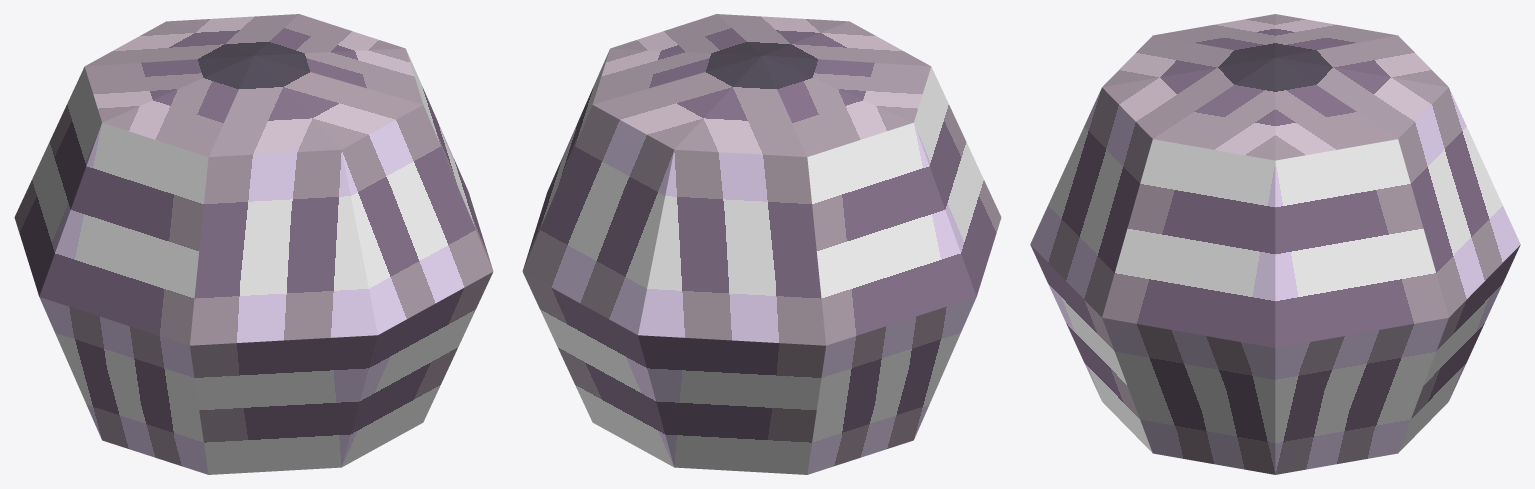
File: yarn.fbx
3 renders of one model, left to right at view 1: azimuth 30°, elevation 25°; view 2: azimuth 150°, elevation 25°; view 3: azimuth 270°, elevation 25°, orthographic.
Parts seen in each view (by area): view 1: Yarn; view 2: Yarn; view 3: Yarn.
Boxes of the visible parts, x1=… form: Yarn: x1=14, y1=14, x2=493, y2=474; Yarn: x1=522, y1=14, x2=1001, y2=474; Yarn: x1=1030, y1=14, x2=1520, y2=474.
Bounding box in the file's own units: 37.19 × 31.25 × 37.19.
Materials: 1 (1 with a texture image).
